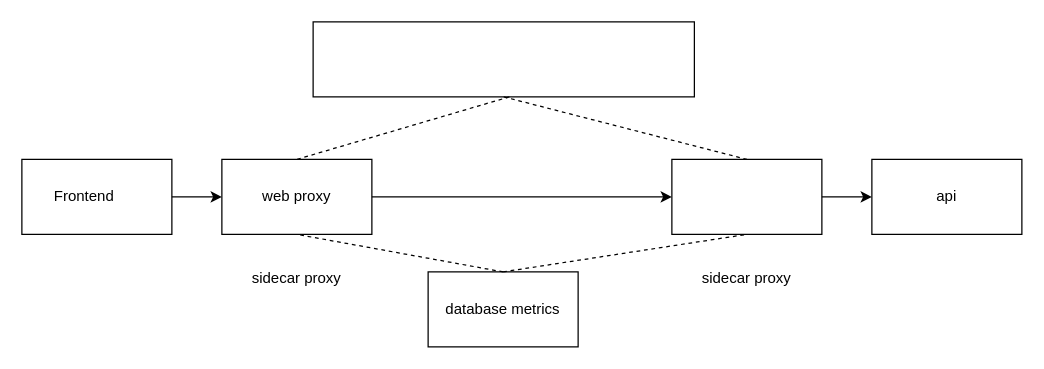
This 1044x369 diagram has some shape labels left out. Each missing label, with the box of its shape:
api proxy: (671, 158, 822, 234)
Control plane: (312, 21, 694, 97)
